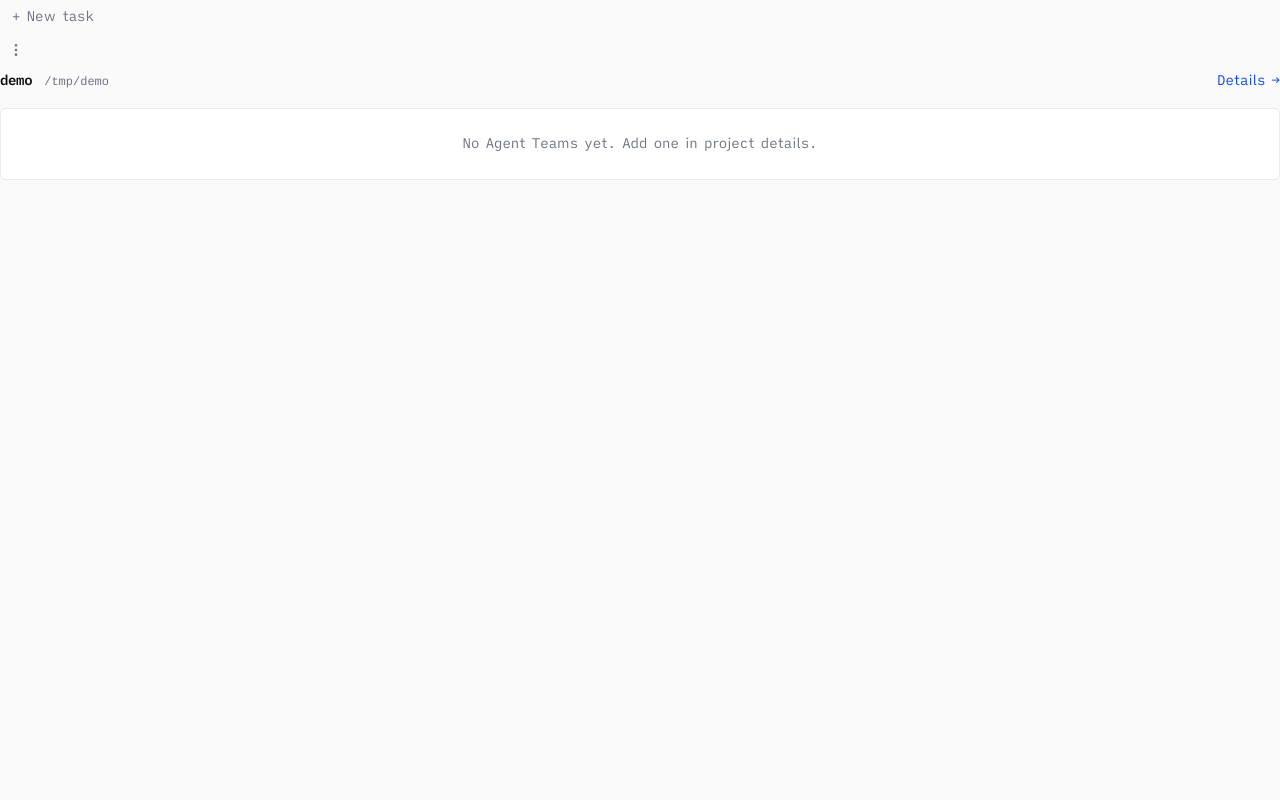
Dashboard layout › exposes a "Settings" menuitem that opens the SystemSettingsModal
Step 1. Click the button named "More actions" → click(16, 50), box [0,34,32,66]
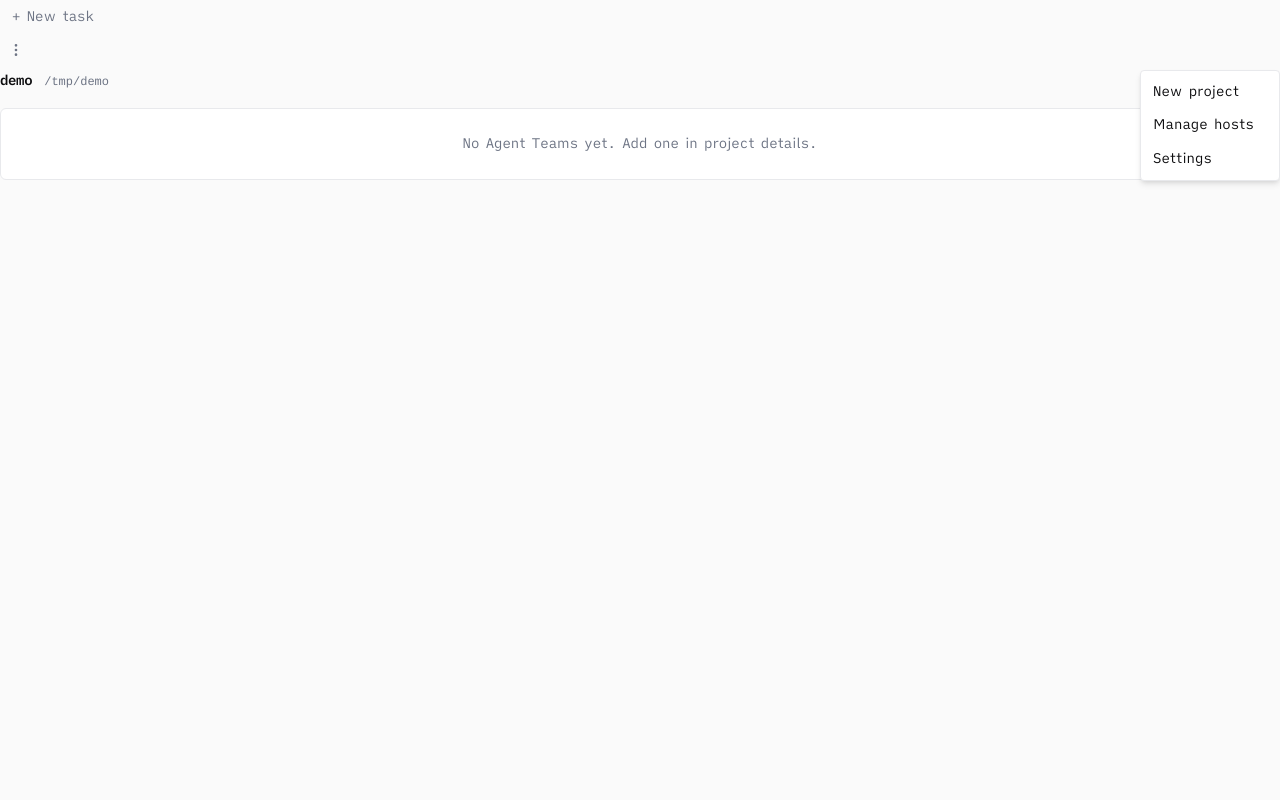
Step 2. Click the menu item "Settings" → click(1210, 159), box [1141,142,1279,176]
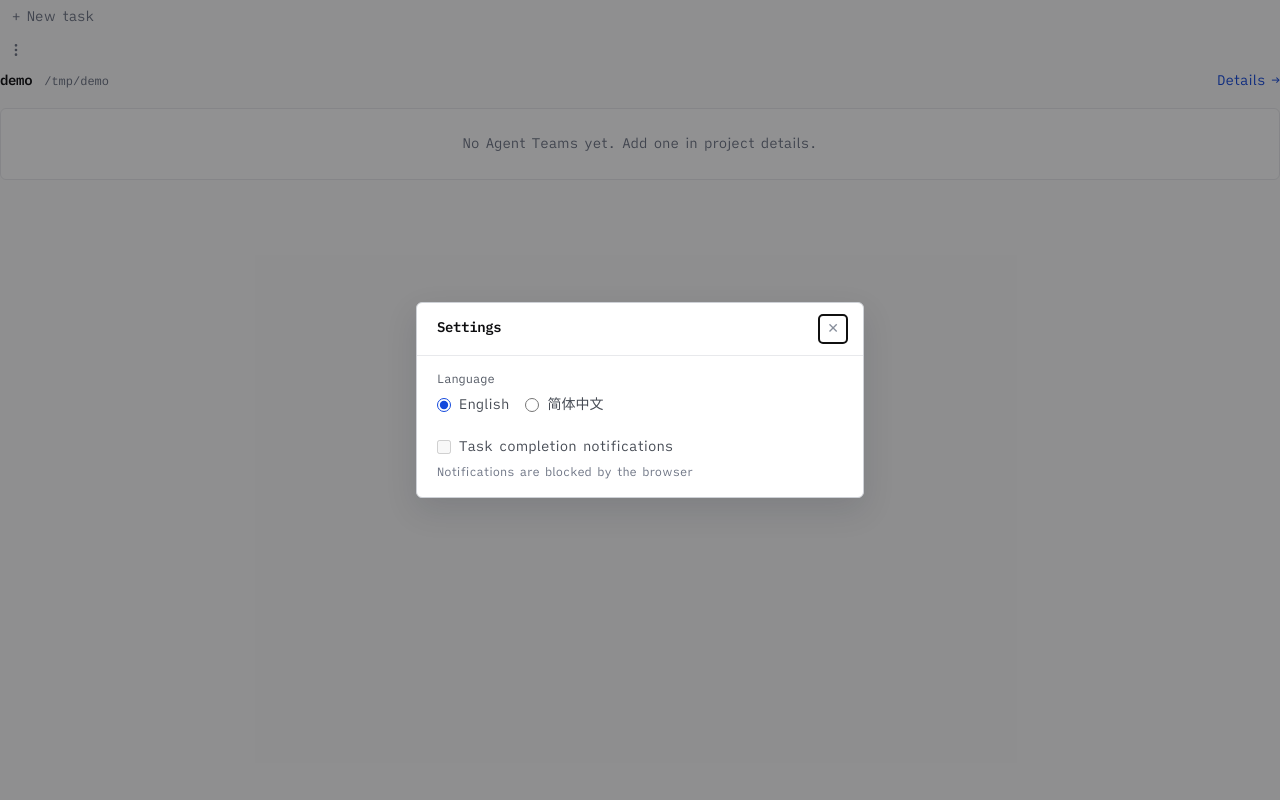
Check: the dialog "Settings" is shown, box [416,302,864,498]
